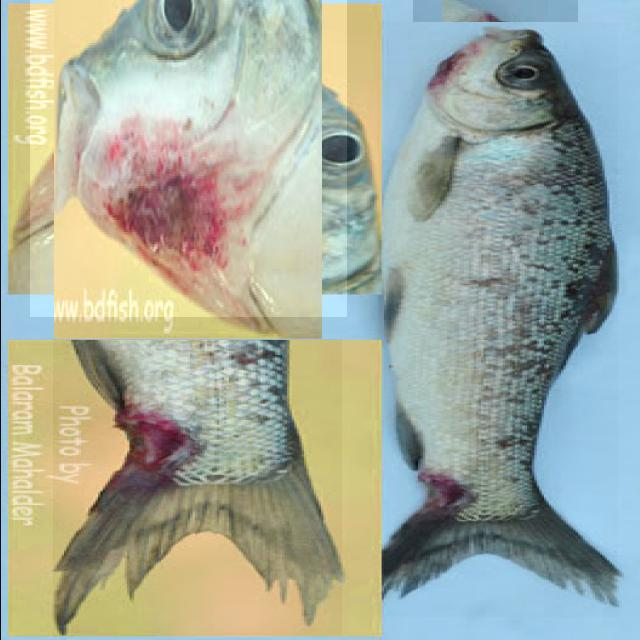EUS Disease: (377, 22, 617, 617), (29, 0, 346, 317), (52, 339, 341, 636), (79, 25, 333, 280), (92, 353, 266, 526), (412, 0, 577, 162), (384, 446, 530, 593)
